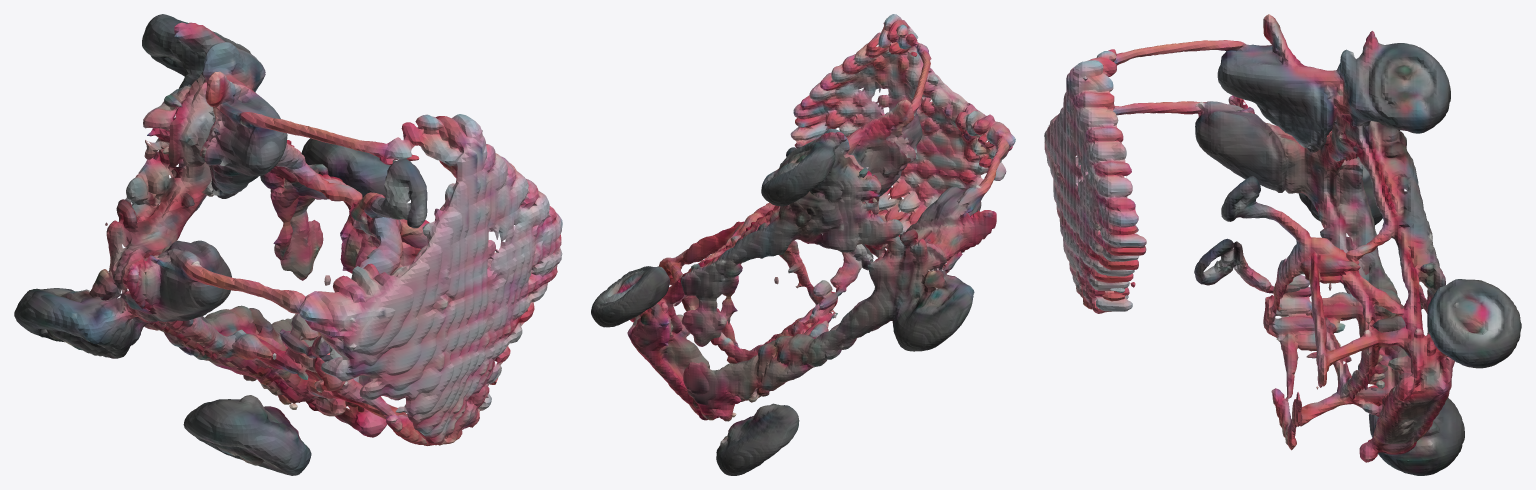
The model's file is 000022_transport_traffic_bicycle_web.glb.
3 renders of one model, left to right at view 1: azimuth 30°, elevation 25°; view 2: azimuth 150°, elevation 25°; view 3: azimuth 270°, elevation 25°, orthographic. The views are drawn at different scales.
Parts seen in each view (by area): view 1: world; view 2: world; view 3: world.
Boxes of the visible parts, <box> form: world: <box>14,14,562,475</box>; world: <box>591,14,1015,475</box>; world: <box>1044,14,1521,475</box>.
Size of the model in its own units: 0.8945 by 0.9422 by 1.01.
